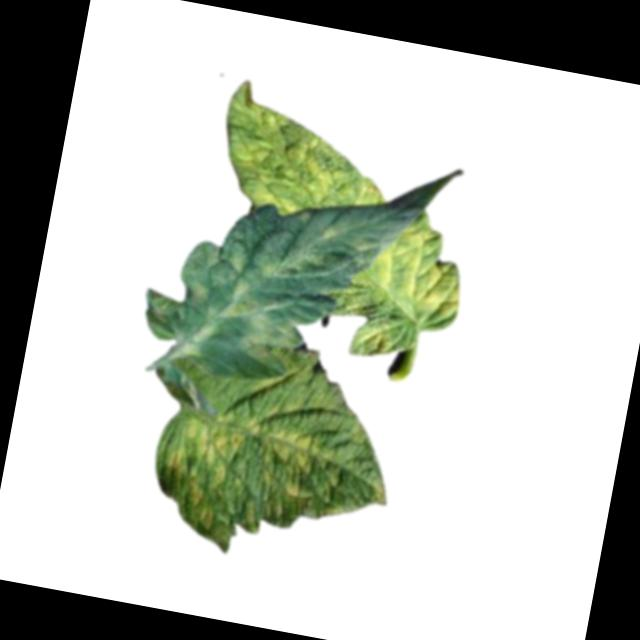Leaf_Mold: (144, 398, 400, 582), (205, 76, 400, 229), (180, 226, 326, 377), (362, 206, 475, 337)
